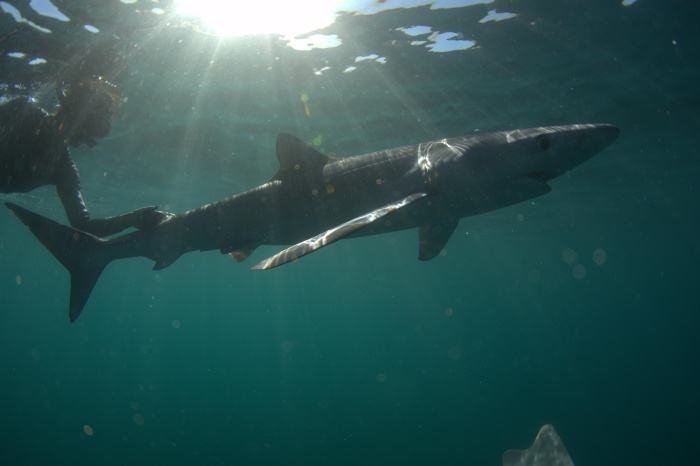Azul: (1, 111, 643, 331)
